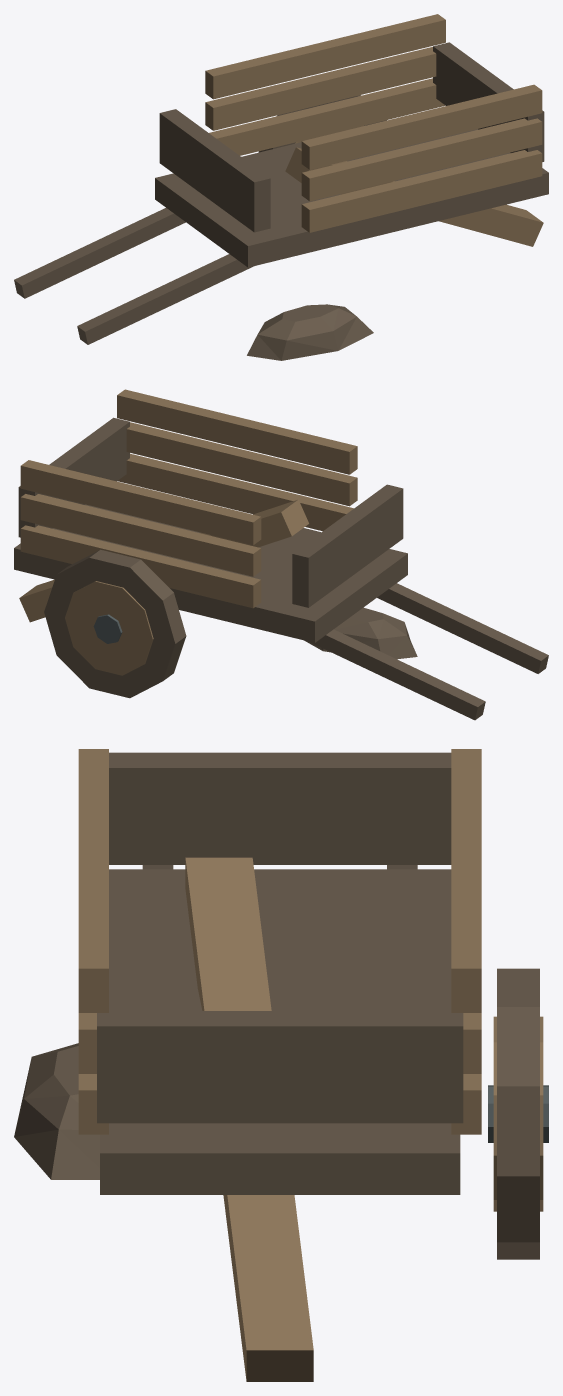
Rendered from Decor_BrokenCart.fbx.
3 views of the same model, one above another, from view 1: azimuth 30°, elevation 25°; view 2: azimuth 150°, elevation 25°; view 3: azimuth 270°, elevation 25° (orthographic). The views are drawn at different scales.
Parts seen in each view (by area): view 1: Decor_BrokenCart; view 2: Decor_BrokenCart; view 3: Decor_BrokenCart.
Part boxes in pixels (x1,y1,x2,y2): Decor_BrokenCart: (14,14,548,360); Decor_BrokenCart: (14,389,548,720); Decor_BrokenCart: (14,749,548,1381).
Size of the model in its own units: 3.55 by 1.38 by 1.75.
